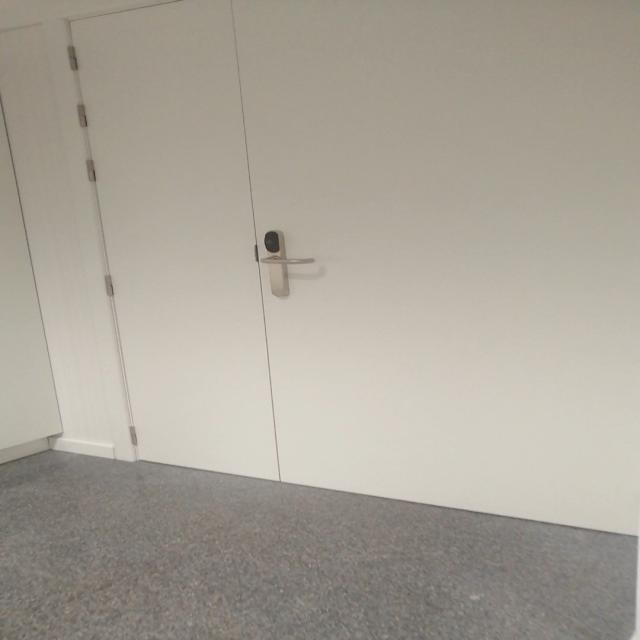door_handle: (253, 254, 321, 265)
